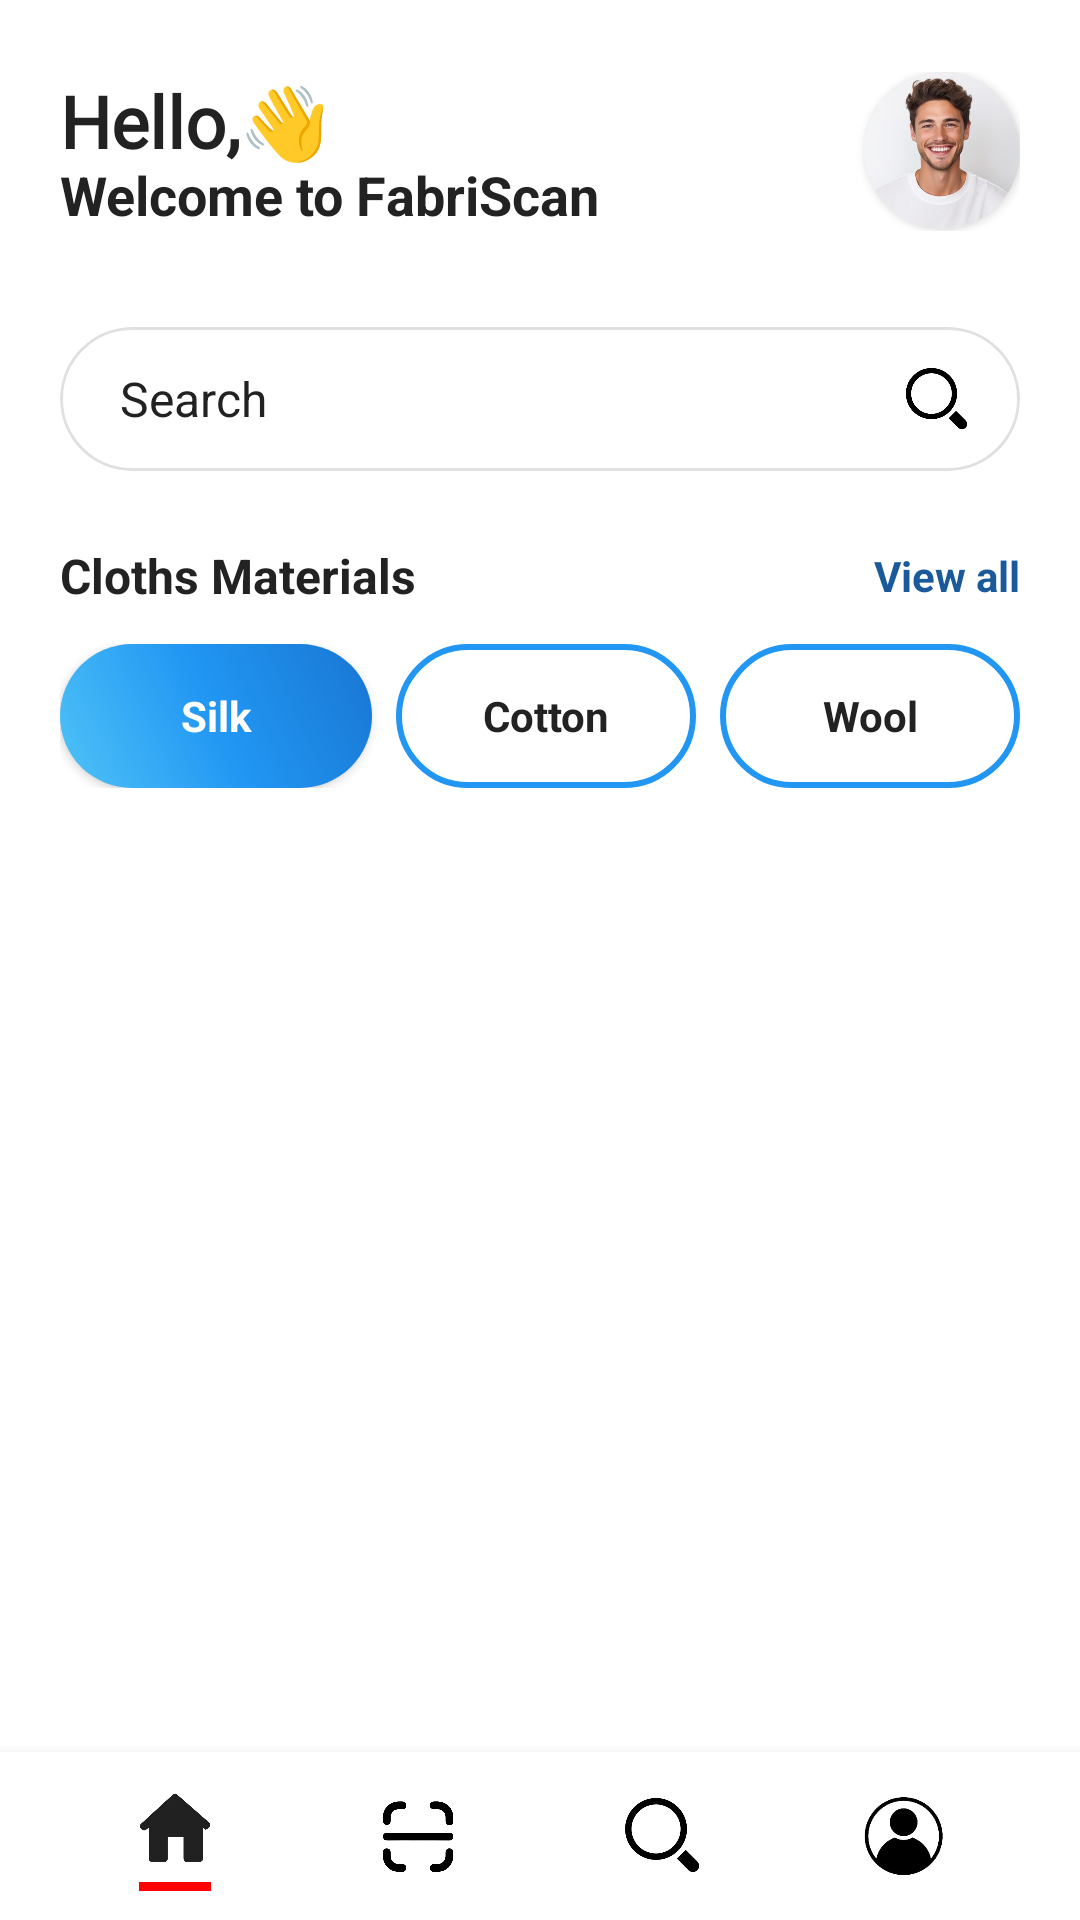

Where icons sit on this 1080px×1920px app screen, as (x1, y1, x2, y2):
Home: (140, 1794, 210, 1862)
Profile: (865, 1797, 943, 1875)
Profile image: (876, 78, 1020, 229)
Scan: (383, 1801, 453, 1872)
Search: (625, 1798, 699, 1872)
